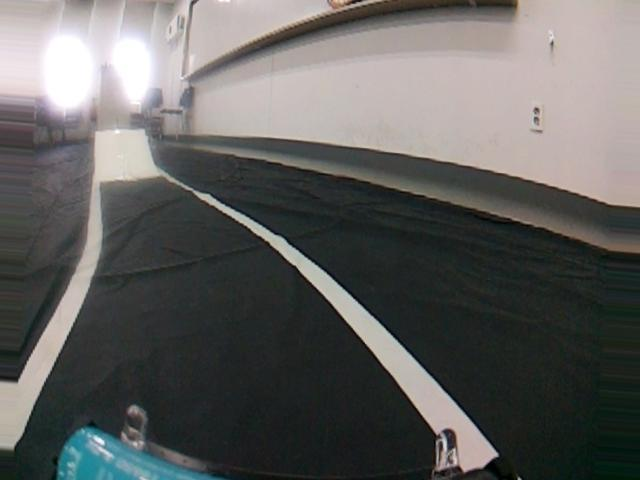straight: (3, 218, 563, 476)
